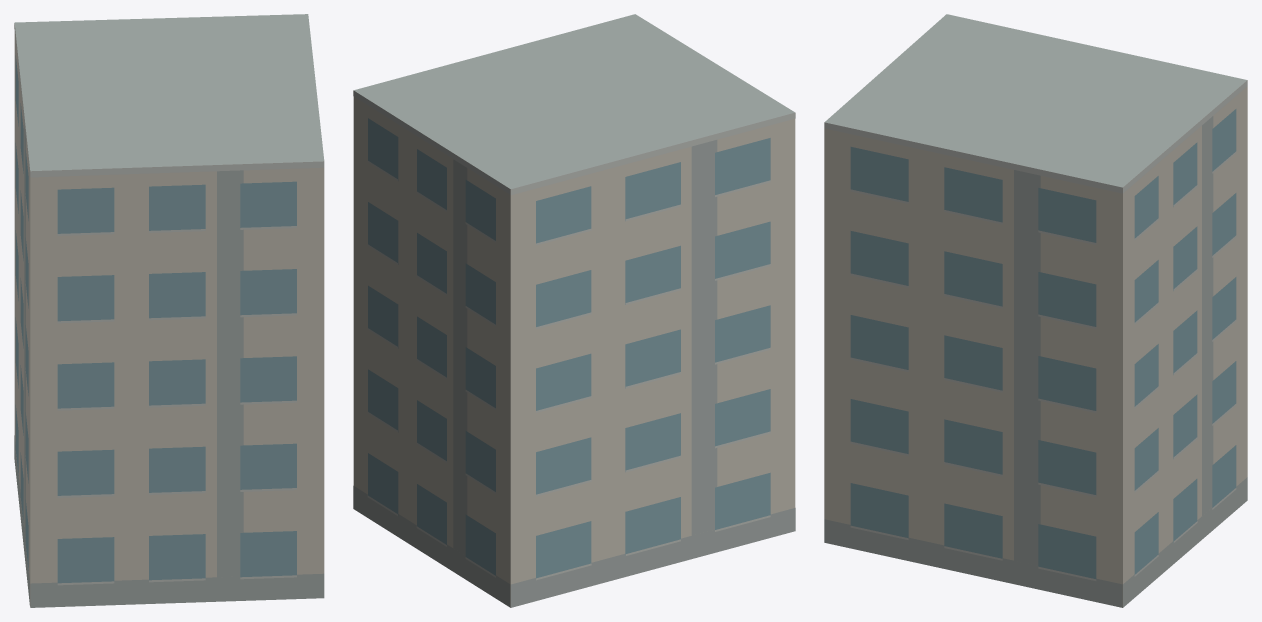
The model's file is survey-upis-32733916.glb.
The picture shows the model from 3 angles, left to right: view 1: azimuth 30°, elevation 25°; view 2: azimuth 150°, elevation 25°; view 3: azimuth 270°, elevation 25°; orthographic projection. The views are drawn at different scales.
Visible parts, largest first — view 1: survey-upis-32733916.tmp; view 2: survey-upis-32733916.tmp; view 3: survey-upis-32733916.tmp.
Part boxes in pixels (x1=…): survey-upis-32733916.tmp: x1=14, y1=14, x2=324, y2=607; survey-upis-32733916.tmp: x1=353, y1=14, x2=795, y2=607; survey-upis-32733916.tmp: x1=824, y1=14, x2=1247, y2=607.
Size of the model in its own units: 15.06 by 17 by 15.52.
